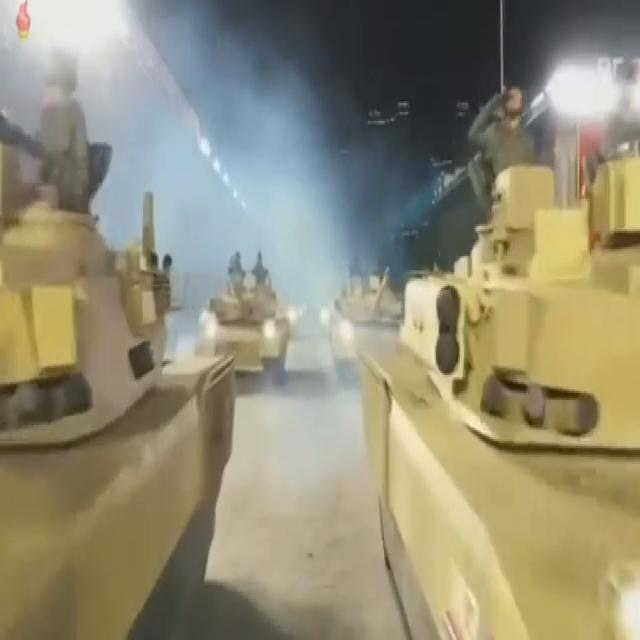north tank: (345, 98, 640, 640), (0, 66, 243, 640), (185, 210, 308, 415)
